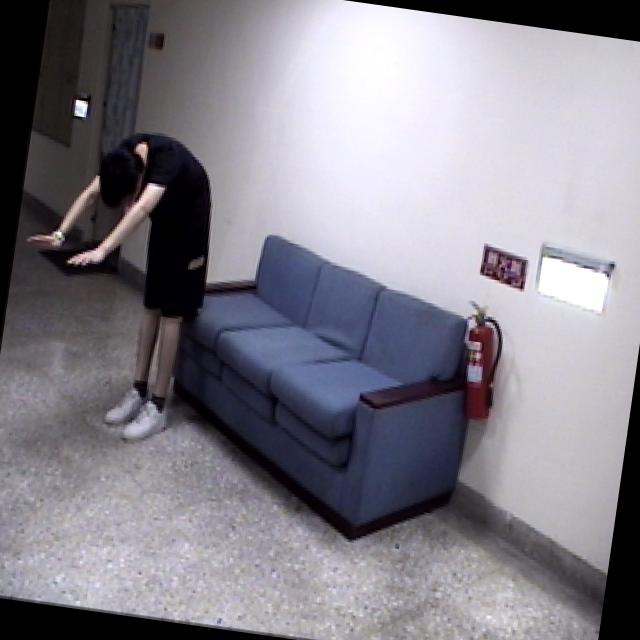bend: (0, 113, 231, 456)
